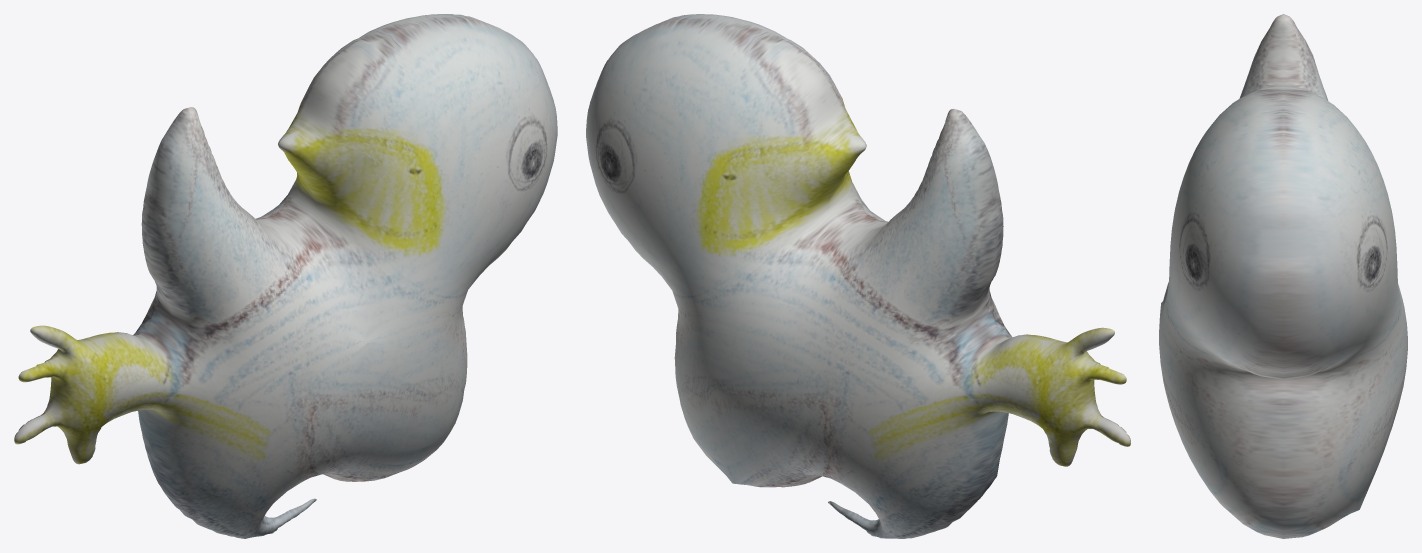
File: nadlemok.glb
The picture shows the model from 3 angles, left to right: view 1: azimuth 30°, elevation 25°; view 2: azimuth 150°, elevation 25°; view 3: azimuth 270°, elevation 25°; orthographic projection. The views are drawn at different scales.
Size of the model in its own units: 5.03 by 4.25 by 1.97.
Materials: 1 (1 with a texture image).
